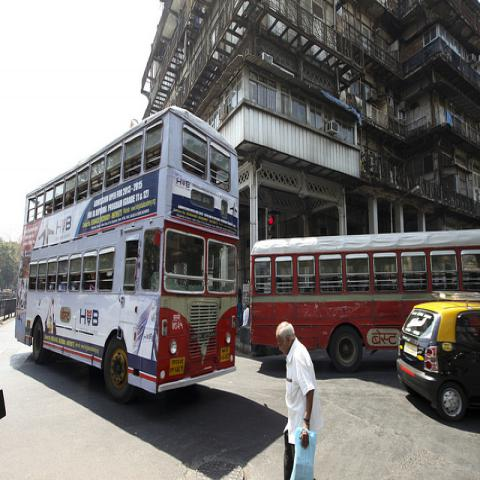bus: (15, 103, 240, 402), (249, 228, 479, 370)
car: (397, 300, 480, 426)
